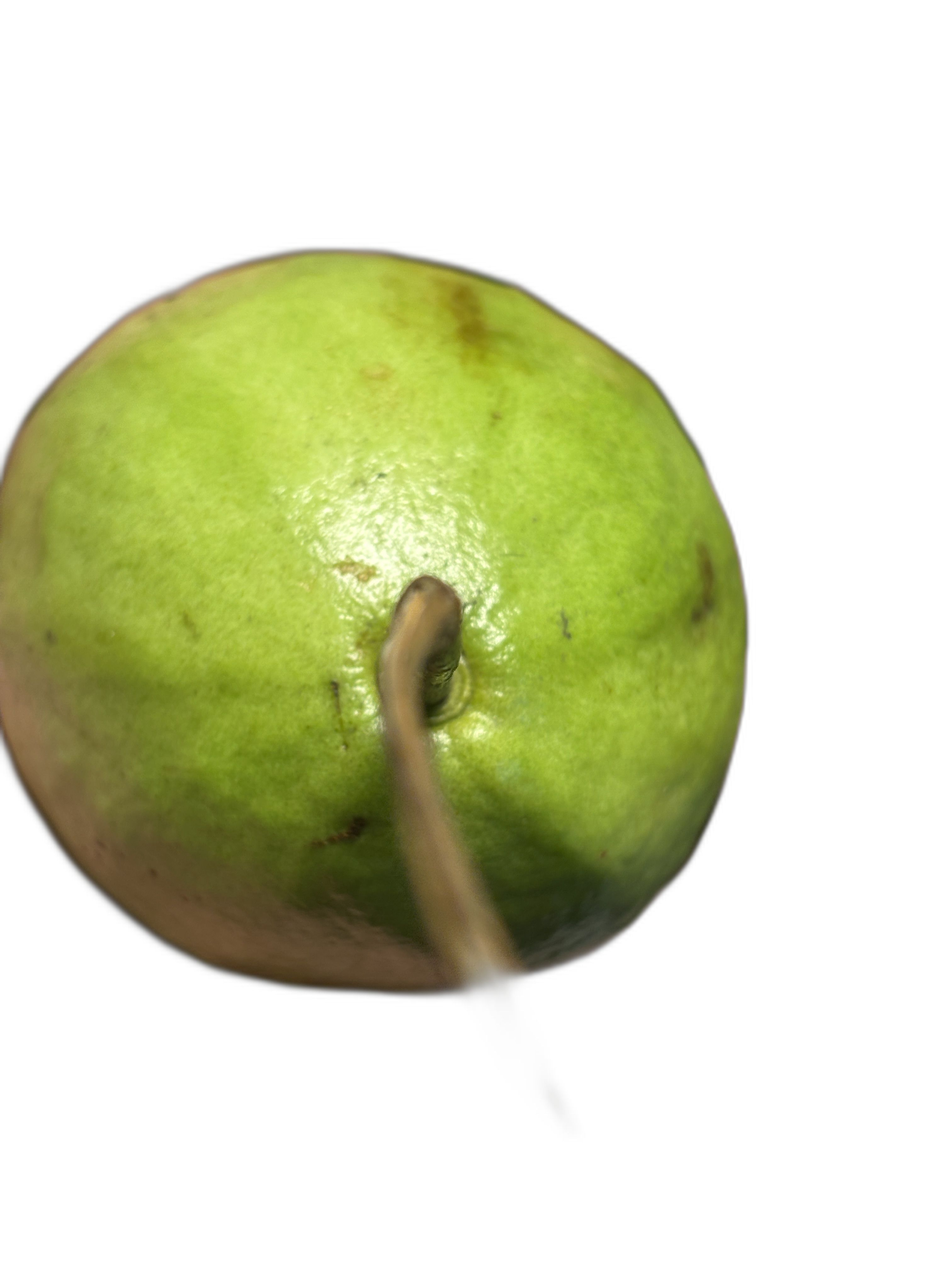guava: (134, 286, 906, 1135)
